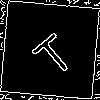T: (25, 25, 78, 80)
